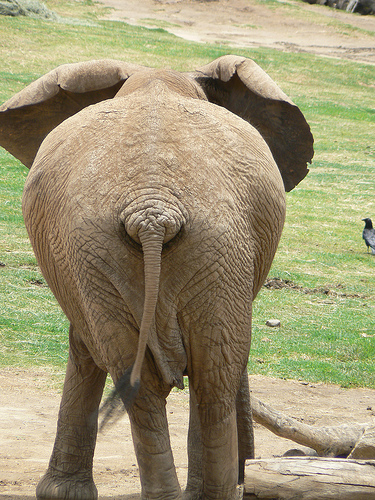elephant: (1, 34, 315, 500)
